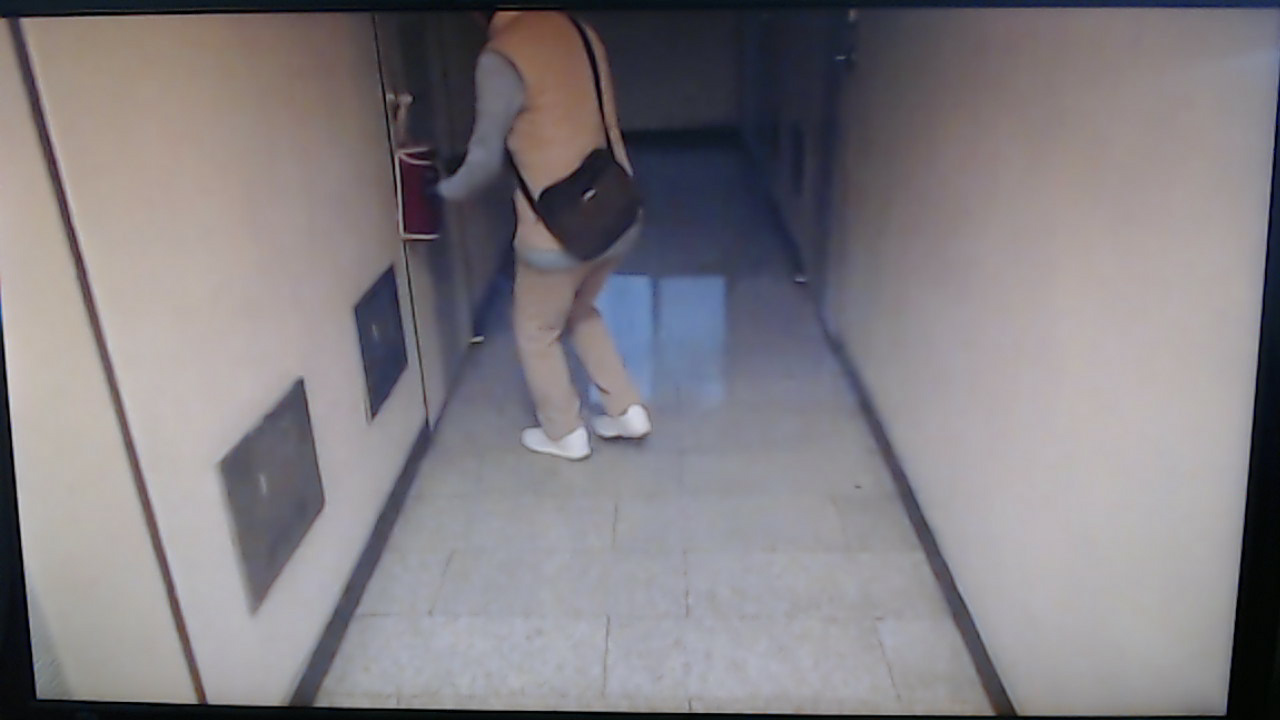Yakurut: (400, 15, 670, 478)
